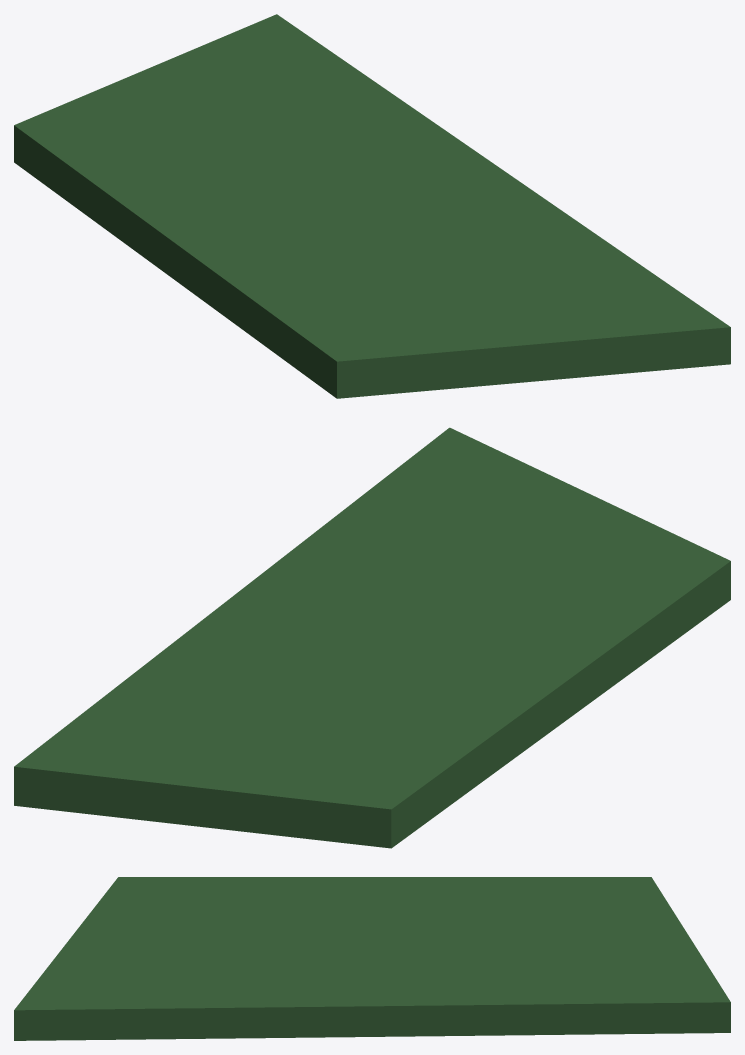
File: x_proval_00_115_1_rmstrd.fbx
3 renders of one model, top to bottom at view 1: azimuth 30°, elevation 25°; view 2: azimuth 150°, elevation 25°; view 3: azimuth 270°, elevation 25°, orthographic. The views are drawn at different scales.
Parts seen in each view (by area): view 1: x_proval_00_115_1_rmstrd1; view 2: x_proval_00_115_1_rmstrd1; view 3: x_proval_00_115_1_rmstrd1.
Part boxes in pixels (x1,y1,x2,y2): x_proval_00_115_1_rmstrd1: (14, 14, 730, 398); x_proval_00_115_1_rmstrd1: (14, 427, 730, 848); x_proval_00_115_1_rmstrd1: (14, 877, 730, 1040).
Bounding box in the file's own units: 1.86 × 0.2 × 4.24.
